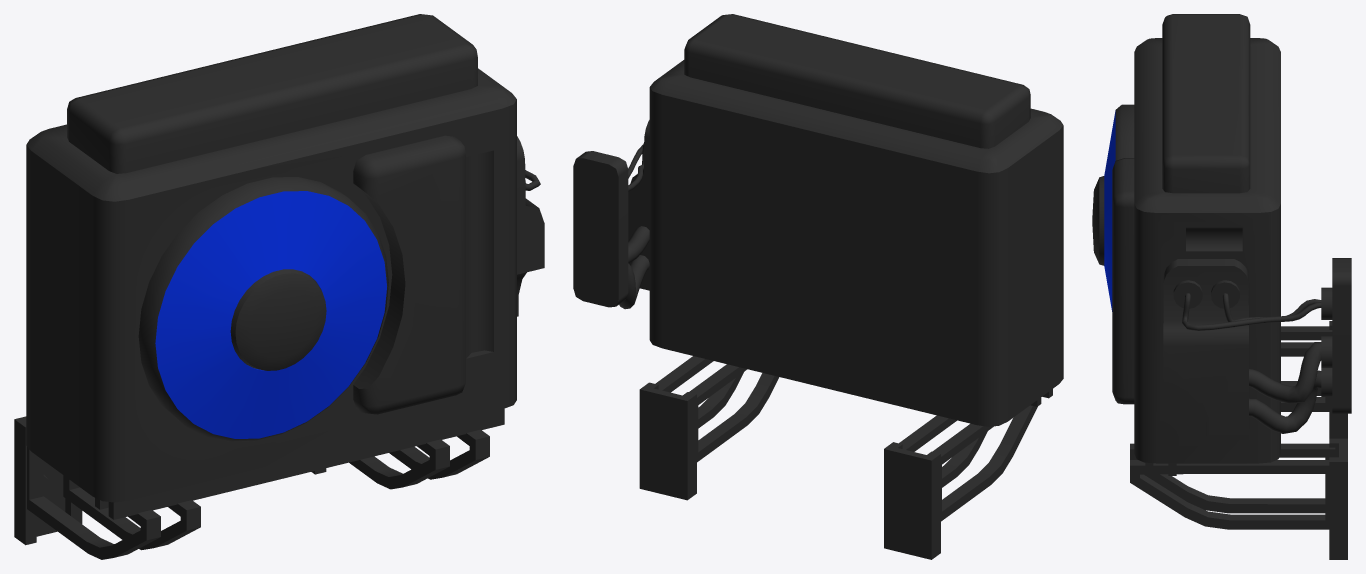
Rendered from SM_AirPump.FBX.
3 renders of one model, left to right at view 1: azimuth 30°, elevation 25°; view 2: azimuth 150°, elevation 25°; view 3: azimuth 270°, elevation 25°, orthographic. The views are drawn at different scales.
Parts seen in each view (by area): view 1: Air_Pump; view 2: Air_Pump; view 3: Air_Pump.
Part boxes in pixels (x1=…): Air_Pump: x1=14, y1=14, x2=544, y2=559; Air_Pump: x1=573, y1=14, x2=1063, y2=559; Air_Pump: x1=1092, y1=14, x2=1351, y2=559.
Bounding box in the file's own units: 91.4 × 90.31 × 52.51.
